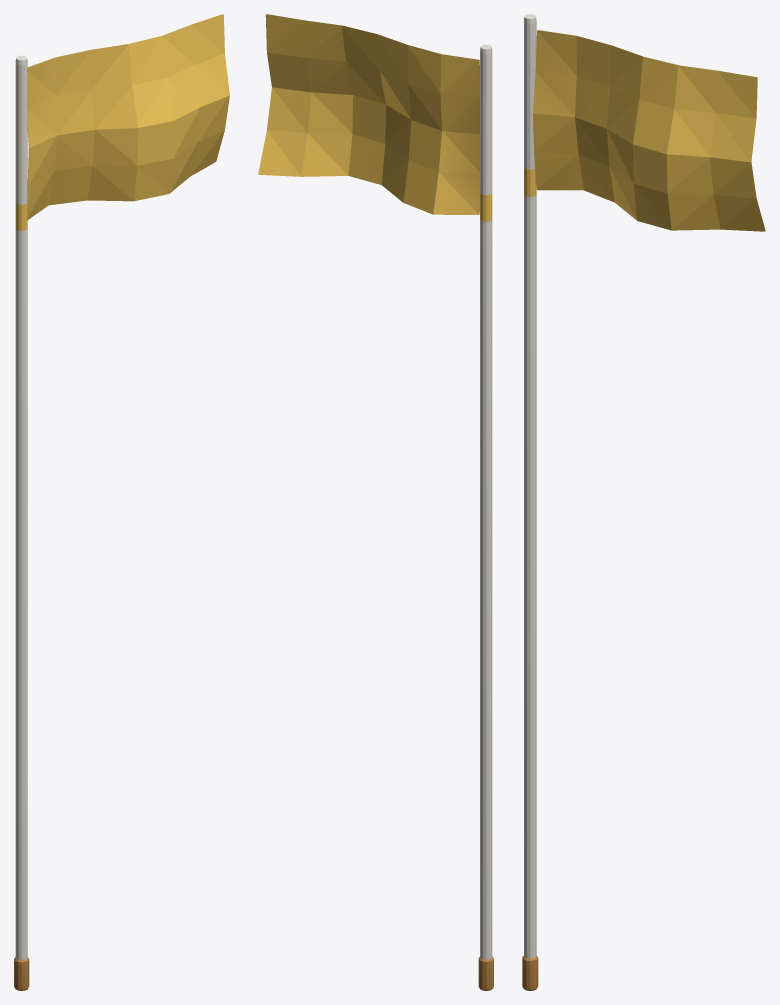
The model's file is flagstick_yellow.glb.
The picture shows the model from 3 angles, left to right: view 1: azimuth 30°, elevation 25°; view 2: azimuth 150°, elevation 25°; view 3: azimuth 330°, elevation 25°; orthographic projection. The views are drawn at different scales.
Visible parts, largest first — view 1: Flag, Pole; view 2: Flag, Pole; view 3: Flag, Pole.
Boxes of the visible parts, x1=… form: Flag: x1=27, y1=14, x2=229, y2=219; Pole: x1=14, y1=55, x2=29, y2=990; Flag: x1=258, y1=14, x2=479, y2=214; Pole: x1=478, y1=44, x2=493, y2=990; Flag: x1=533, y1=30, x2=765, y2=231; Pole: x1=522, y1=14, x2=538, y2=990.
Size of the model in its own units: 0.5183 by 2.13 by 0.1102.
Materials: 1 (1 with a texture image).
